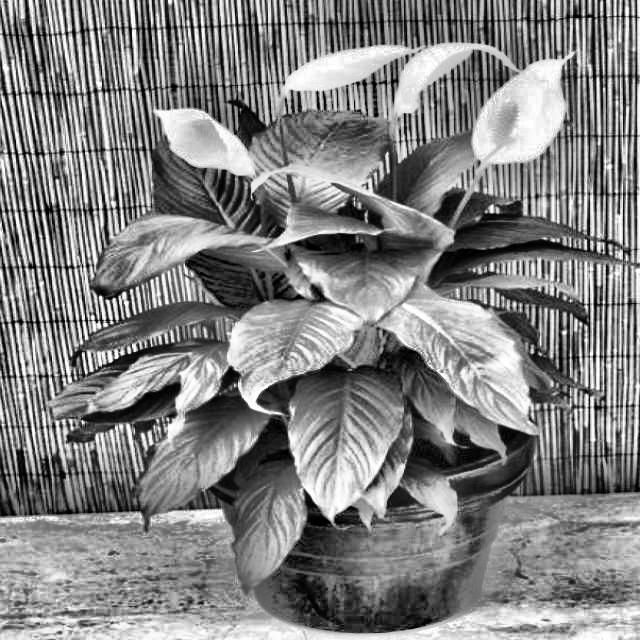plants: (182, 103, 534, 490)
